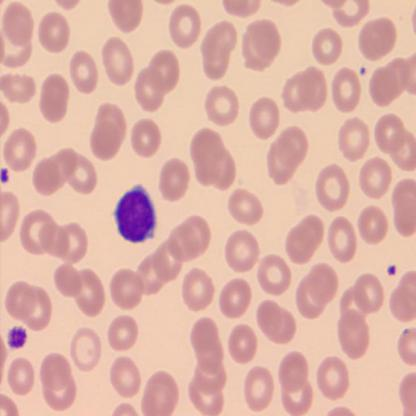Lymphocyte: (115, 186, 156, 242)
